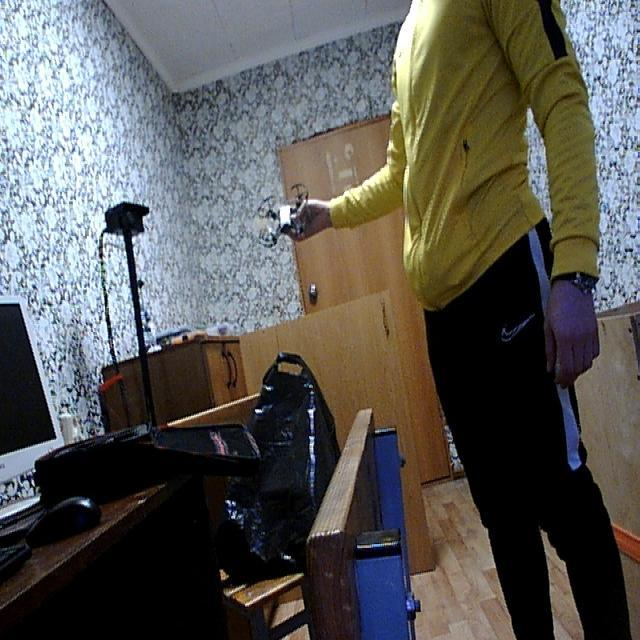drone: (253, 178, 321, 252)
